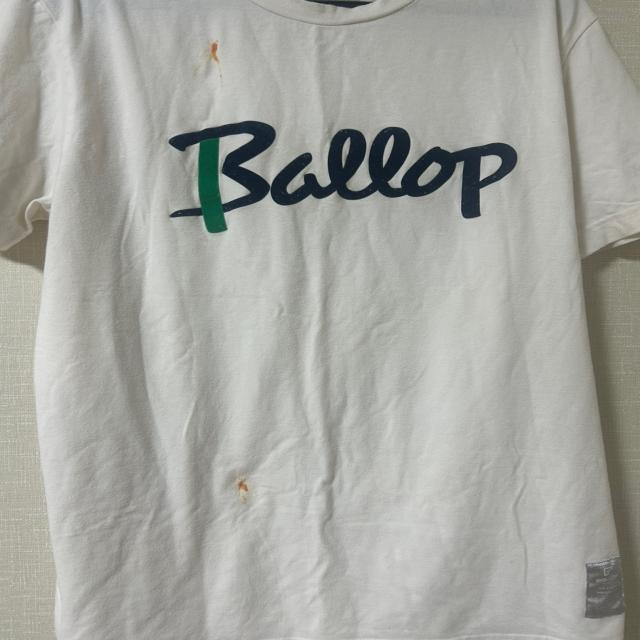stain: (200, 36, 235, 77), (229, 470, 258, 501)
